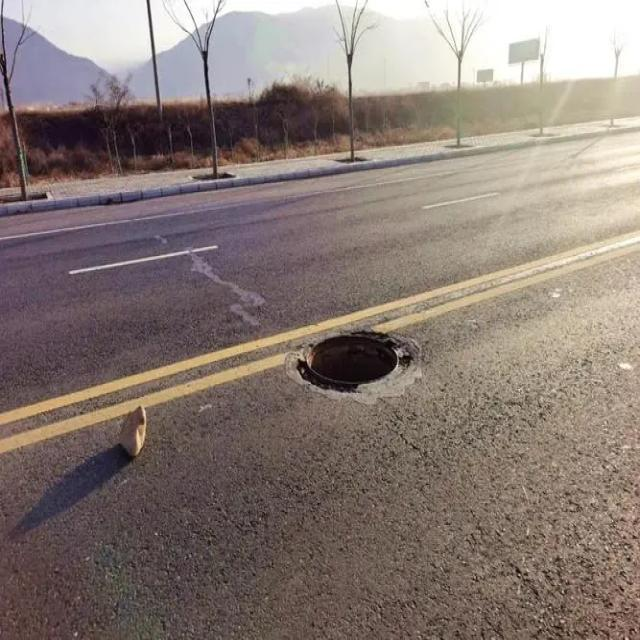manhole: (286, 330, 421, 403)
